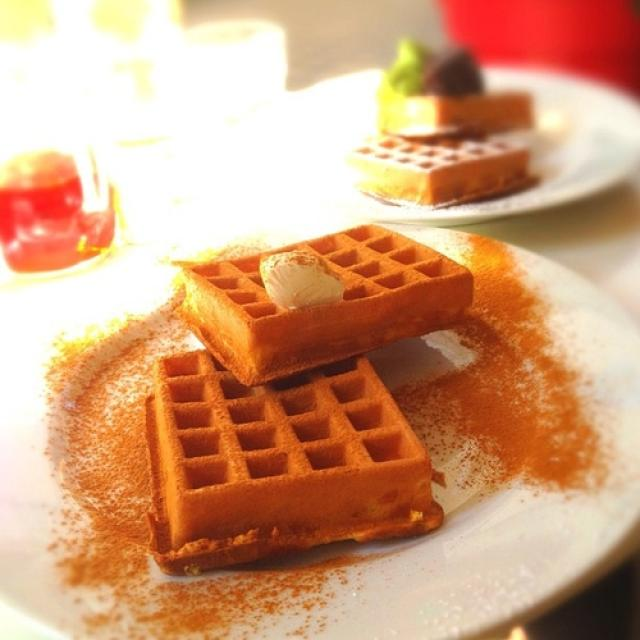炸货点心: (0, 151, 635, 631)
蛋糕甜品: (0, 151, 635, 631)
